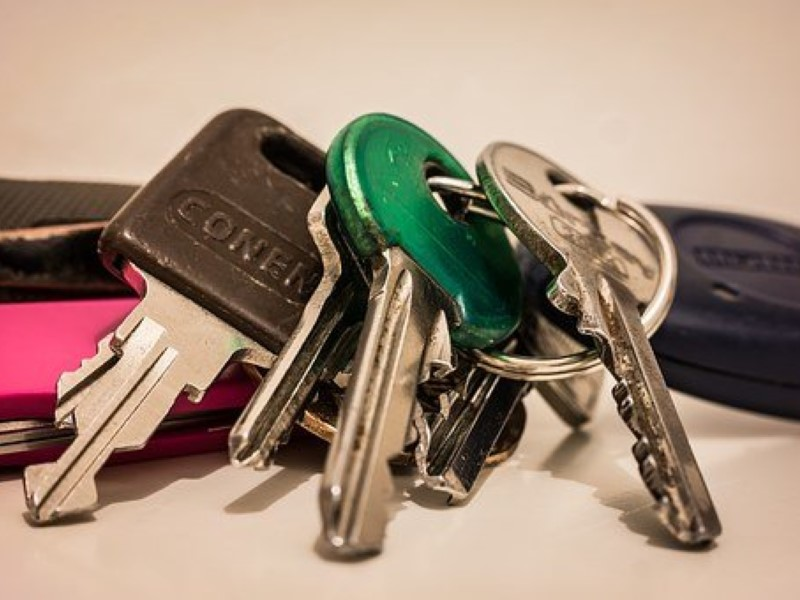key: (16, 103, 352, 530), (476, 124, 726, 552), (311, 106, 528, 565)
